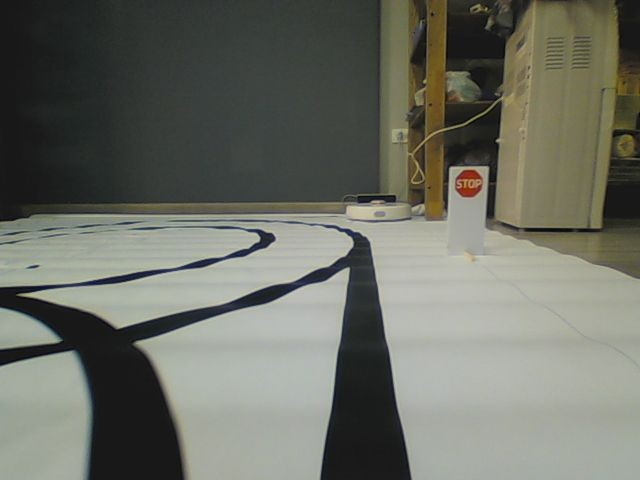Stop: (454, 167, 483, 198)
